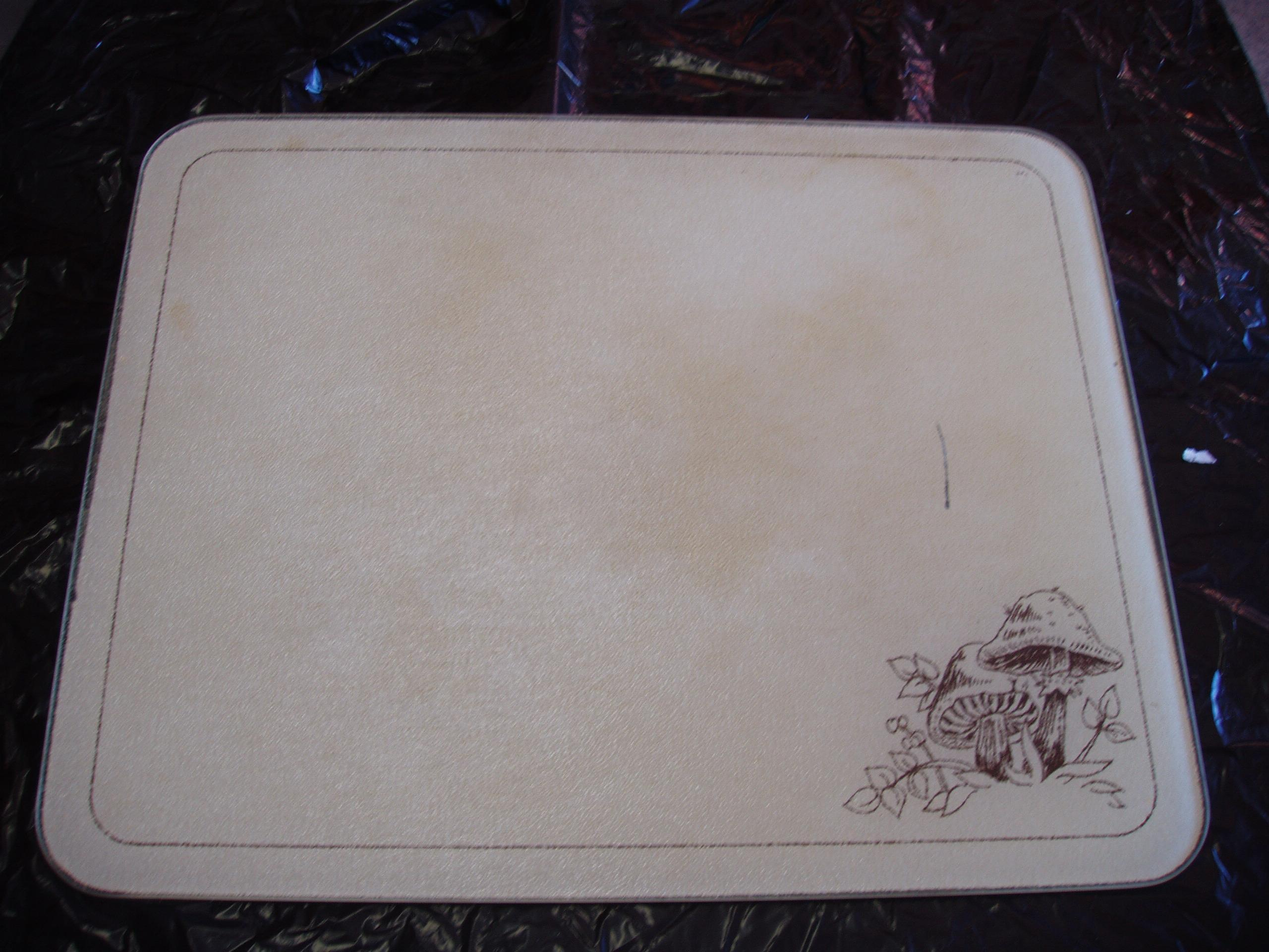gloved_hand: (25, 92, 1226, 924)
